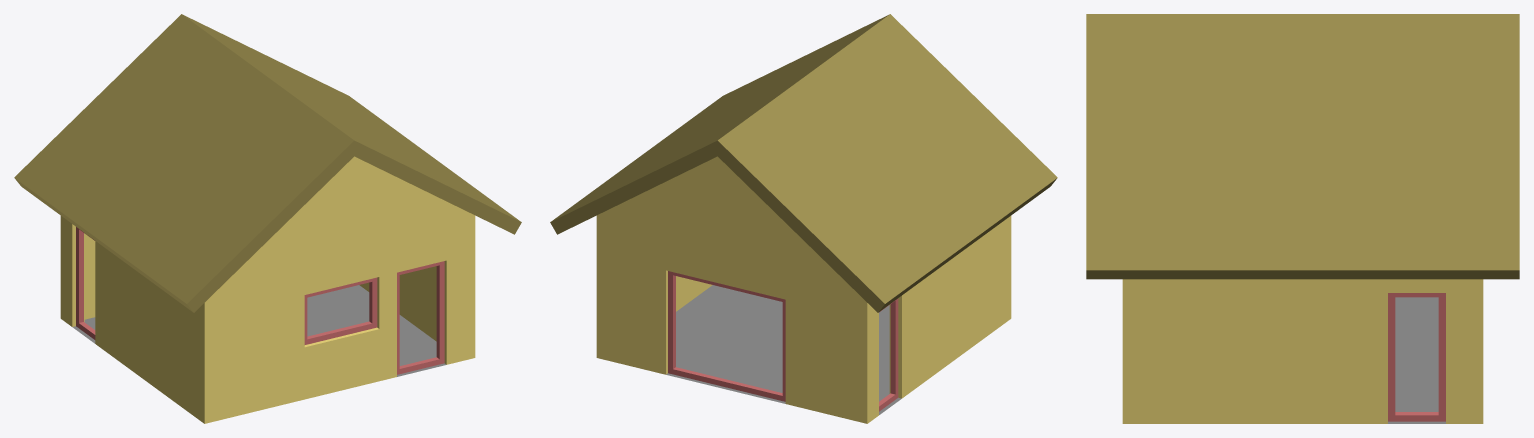
File: result.glb
The picture shows the model from 3 angles, left to right: view 1: azimuth 30°, elevation 25°; view 2: azimuth 150°, elevation 25°; view 3: azimuth 270°, elevation 25°; orthographic projection. The views are drawn at different scales.
Parts seen in each view (by area): view 1: 5a7b0a18-f8a4-446c-9a69-99c717d98508__undefined (×2), c88c3ae0-299d-4cd1-b876-a310827476da__undefined, d6170428-2afc-4633-8e07-fe7e085c5e93__Plane_6, fefd28af-8980-4d9a-acf4-10bea7202d44__Box, 77816aa7-fff5-4caa-81f2-b53c871e1dd4__Box_3, 99bdb6c3-6f61-4bf8-a7f7-3809492f6670__Box_12; view 2: 5a7b0a18-f8a4-446c-9a69-99c717d98508__undefined (×2), c88c3ae0-299d-4cd1-b876-a310827476da__undefined, d6170428-2afc-4633-8e07-fe7e085c5e93__Plane_6, 05d9c680-0ed0-4e9e-9414-7a261f7f7d6a__Box_9, 99bdb6c3-6f61-4bf8-a7f7-3809492f6670__Box_12; view 3: 5a7b0a18-f8a4-446c-9a69-99c717d98508__undefined, c88c3ae0-299d-4cd1-b876-a310827476da__undefined, d6170428-2afc-4633-8e07-fe7e085c5e93__Plane_6, 62717906-e905-44f8-be83-eb2dc6e68cfb__Box_15.
Part boxes in pixels (bbox=[...]): 5a7b0a18-f8a4-446c-9a69-99c717d98508__undefined (×2): bbox=[14, 14, 521, 312]; c88c3ae0-299d-4cd1-b876-a310827476da__undefined: bbox=[60, 156, 475, 423]; d6170428-2afc-4633-8e07-fe7e085c5e93__Plane_6: bbox=[72, 285, 446, 376]; fefd28af-8980-4d9a-acf4-10bea7202d44__Box: bbox=[397, 261, 444, 374]; 77816aa7-fff5-4caa-81f2-b53c871e1dd4__Box_3: bbox=[304, 277, 377, 344]; 99bdb6c3-6f61-4bf8-a7f7-3809492f6670__Box_12: bbox=[76, 227, 95, 339]; 5a7b0a18-f8a4-446c-9a69-99c717d98508__undefined (×2): bbox=[550, 14, 1057, 312]; c88c3ae0-299d-4cd1-b876-a310827476da__undefined: bbox=[596, 156, 1011, 423]; d6170428-2afc-4633-8e07-fe7e085c5e93__Plane_6: bbox=[666, 285, 901, 414]; 05d9c680-0ed0-4e9e-9414-7a261f7f7d6a__Box_9: bbox=[668, 271, 785, 401]; 99bdb6c3-6f61-4bf8-a7f7-3809492f6670__Box_12: bbox=[879, 298, 898, 411]; 5a7b0a18-f8a4-446c-9a69-99c717d98508__undefined: bbox=[1086, 14, 1519, 279]; c88c3ae0-299d-4cd1-b876-a310827476da__undefined: bbox=[1122, 279, 1483, 423]; d6170428-2afc-4633-8e07-fe7e085c5e93__Plane_6: bbox=[1388, 297, 1445, 423]; 62717906-e905-44f8-be83-eb2dc6e68cfb__Box_15: bbox=[1388, 293, 1445, 421].
Size of the model in its own units: 672 by 500 by 600.
